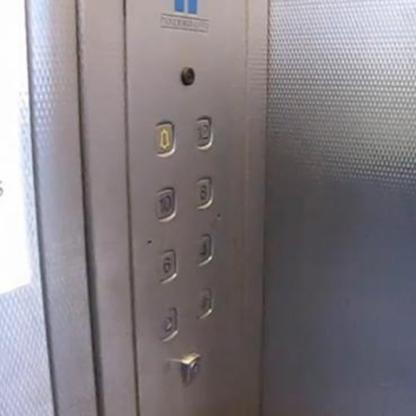10: (154, 186, 178, 222)
12: (194, 116, 213, 150)
4: (195, 233, 212, 266)
6: (156, 249, 178, 283)
8: (192, 176, 214, 209)
alarm: (152, 120, 176, 157)
blur: (157, 306, 178, 342), (194, 287, 213, 320)
keyhole: (179, 350, 201, 384)
